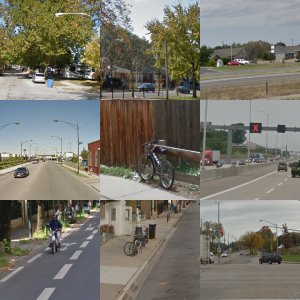汽車: (43, 182, 90, 202), (273, 35, 297, 57), (66, 171, 95, 189), (15, 168, 39, 188)
消防栓: (134, 19, 184, 97), (17, 230, 67, 297), (138, 128, 176, 198)
紅綠燈: (142, 217, 184, 286)
